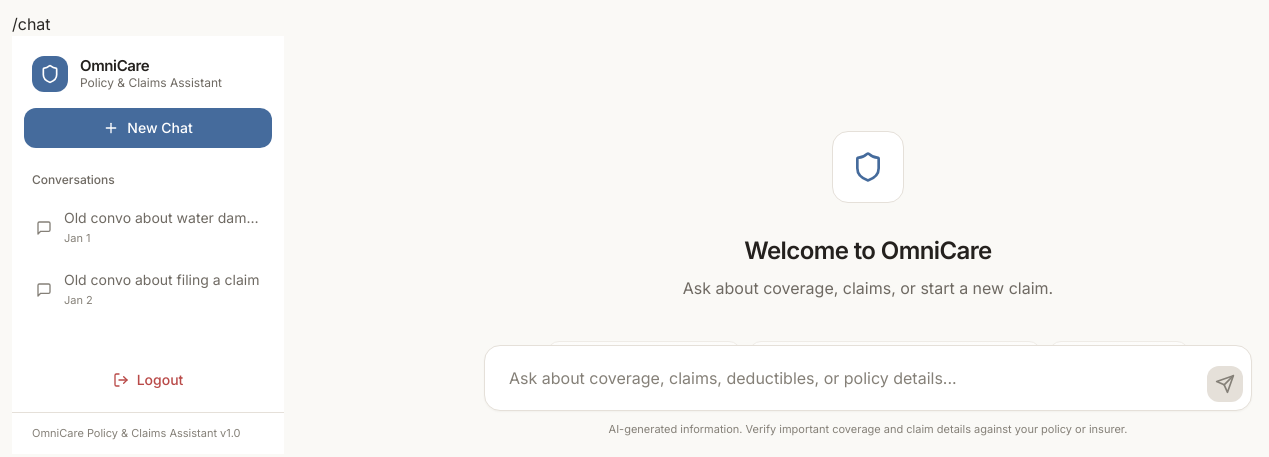
Test: ChatPage conversation sidebar navigation › navigates to /chat/:conversationId and loads history when a conversation is clicked
Click the text "Old convo about filing a claim" at (162, 280), box [64,270,260,290]
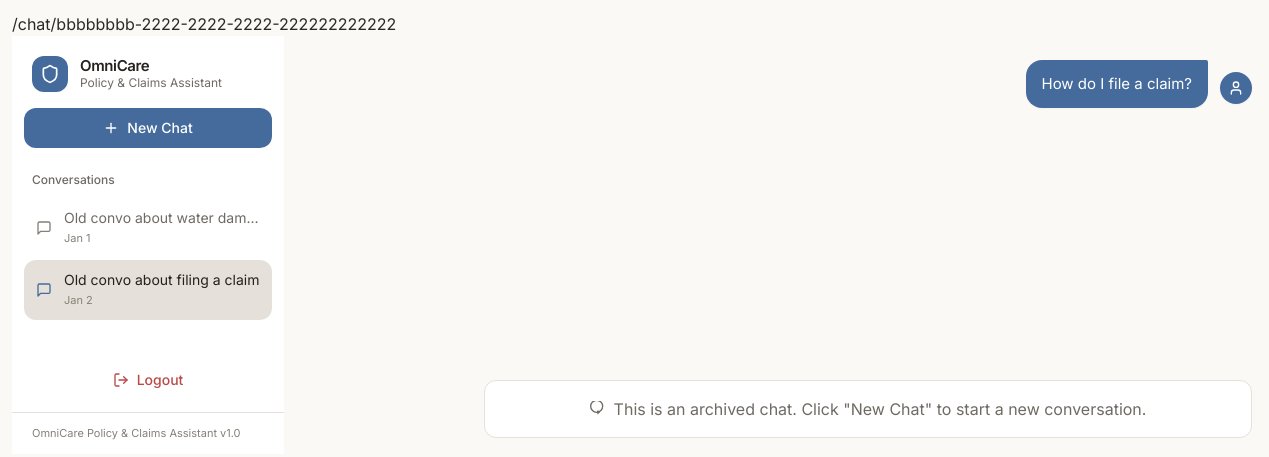
expect the text with test id "current-path" reads "/chat/bbbbbbbb-2222-2222-2222-222222222222": met, box [12,14,396,34]
expect the text "How do I file a claim?" is shown: met, box [1042,72,1192,96]
